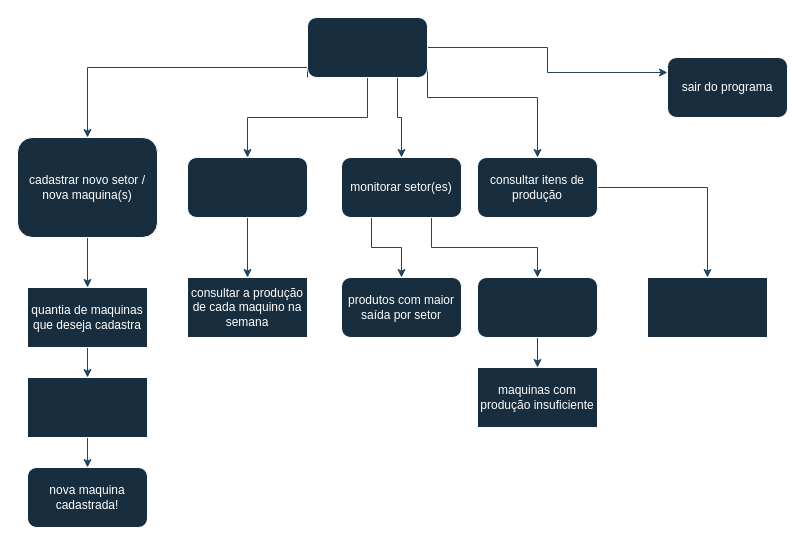
Image size: 805x545. Some labels were removed from this diagram. Each missing label, with the centre of its shape:
ferramentas com maior saída: point 707,307
maquinas ociosas: point 537,307
menu de opções: point 367,47
monitorar produção por maquina(s): point 247,187
quantidade e tipos de ferramentas de produção para cada maquina: point 87,407
